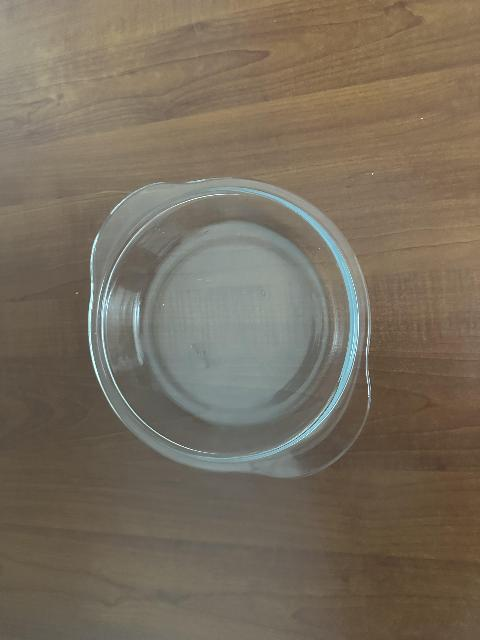Cam: (87, 173, 373, 487)
